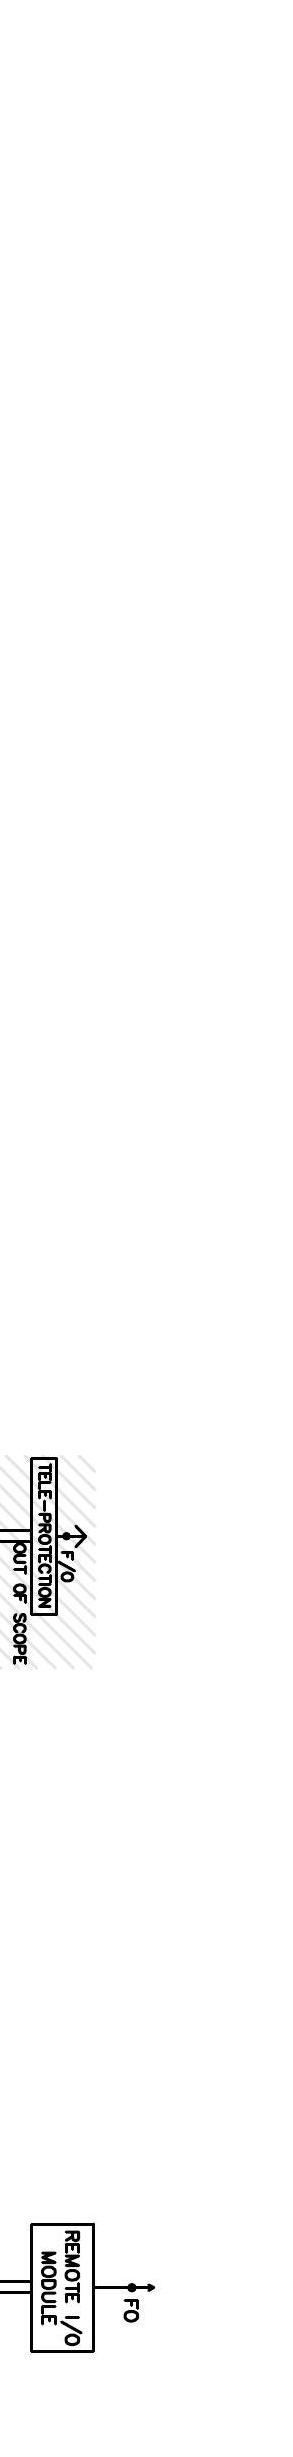remote_io_module: (30, 2222, 96, 2354)
tele_protection: (30, 1456, 58, 1617)
